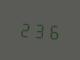six: (47, 20, 60, 41)
three: (33, 19, 46, 40)
two: (18, 18, 31, 39)
